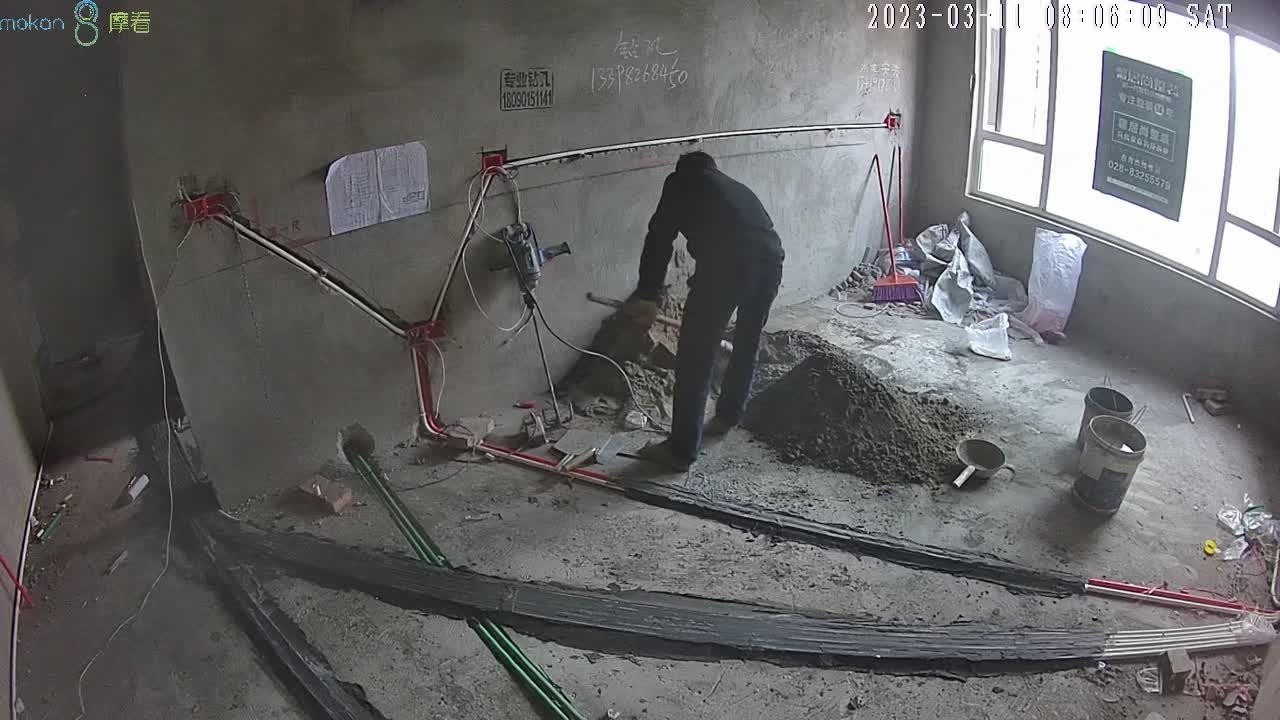people: (625, 152, 786, 470)
window: (968, 2, 1280, 311)
